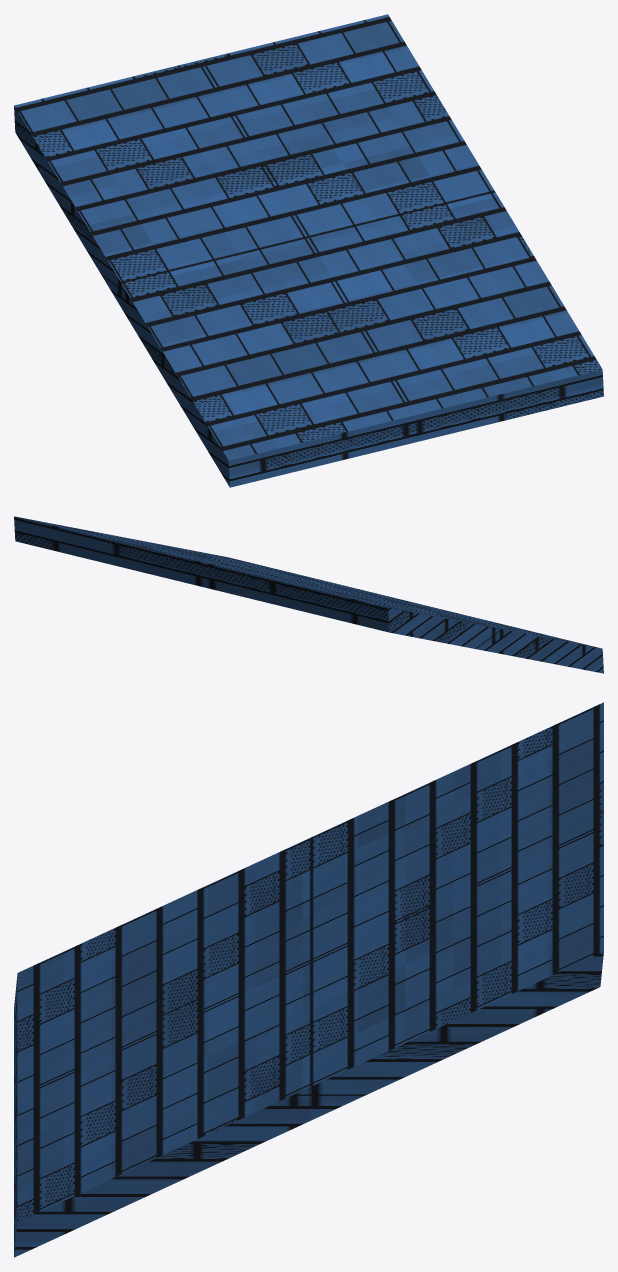
The model's file is theodosian blue roof triangle.glb.
3 views of the same model, one above another, from view 1: azimuth 30°, elevation 25°; view 2: azimuth 150°, elevation 25°; view 3: azimuth 270°, elevation 25° (orthographic). The views are drawn at different scales.
Parts seen in each view (by area): view 1: Theodosian_blue_triangle; view 2: Theodosian_blue_triangle; view 3: Theodosian_blue_triangle.
Part boxes in pixels (bbox=[...]): Theodosian_blue_triangle: bbox=[14, 14, 603, 487]; Theodosian_blue_triangle: bbox=[14, 516, 603, 673]; Theodosian_blue_triangle: bbox=[14, 702, 603, 1257].
Size of the model in its own units: 1 by 0.5726 by 1.
1 material, 1 textured.
